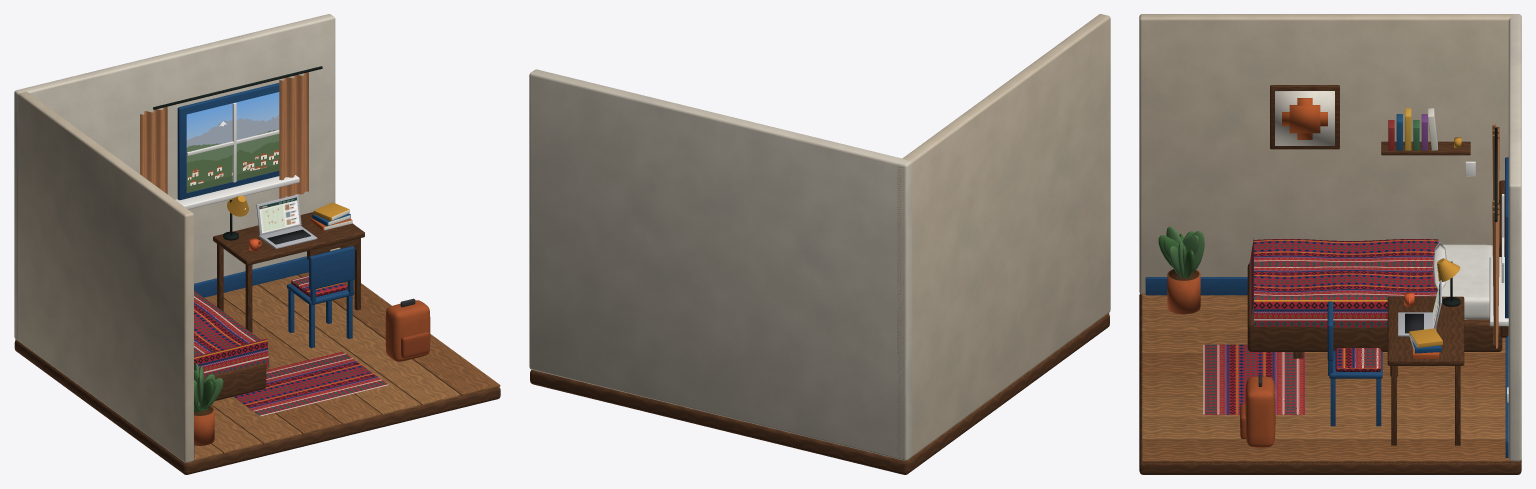
The model's file is cuarto.glb.
The picture shows the model from 3 angles, left to right: view 1: azimuth 30°, elevation 25°; view 2: azimuth 150°, elevation 25°; view 3: azimuth 270°, elevation 25°; orthographic projection. The views are drawn at different scales.
Parts seen in each view (by area): view 1: pared_izq, pared_fondo, ven_cielo, piso, tabla6, alfombra, tabla5, tabla7, ven_cortina_d, mesa, tabla4, ven_marco (+19 smaller); view 2: pared_fondo, pared_izq, piso; view 3: pared_izq, fraz_manta, tabla7, tabla6, pared_fondo, alfombra, tabla5, piso, tabla4, cama_base, mesa, tabla3 (+23 smaller).
Part boxes in pixels (x1,y1,x2,y2): pared_izq: (15, 91, 193, 462); pared_fondo: (14, 14, 335, 340); ven_cielo: (186, 92, 279, 192); piso: (14, 340, 500, 474); tabla6: (258, 275, 460, 405); alfombra: (234, 351, 388, 416); tabla5: (223, 284, 420, 415); tabla7: (298, 272, 500, 395); ven_cortina_d: (279, 72, 308, 198); mesa: (213, 212, 364, 265); tabla4: (204, 294, 381, 424); ven_marco: (177, 83, 279, 200); pared_fondo: (529, 69, 912, 460); pared_izq: (897, 14, 1110, 458); piso: (530, 314, 1109, 474); pared_izq: (1139, 14, 1521, 294); fraz_manta: (1254, 239, 1438, 328); tabla7: (1142, 439, 1518, 462); tabla6: (1142, 418, 1505, 439); pared_fondo: (1508, 14, 1521, 461); alfombra: (1203, 344, 1304, 414); tabla5: (1142, 396, 1505, 417); piso: (1139, 294, 1521, 474); tabla4: (1142, 375, 1505, 396); cama_base: (1247, 263, 1502, 351); mesa: (1387, 296, 1464, 365); tabla3: (1142, 353, 1505, 374).
Size of the model in its own units: 3.2 by 2.52 by 3.
Materials: 86 (50 with a texture image).
